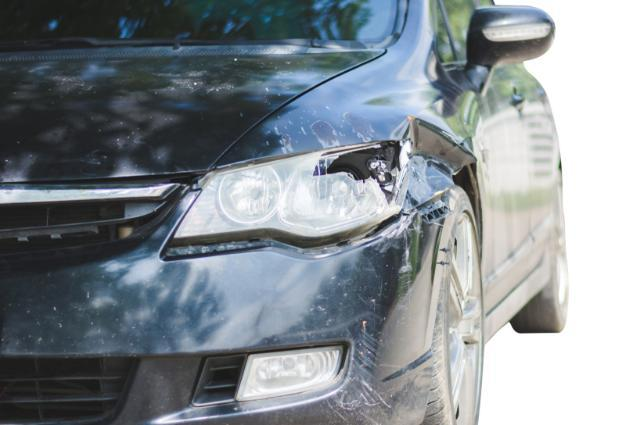Bumper: (315, 226, 431, 425)
Fender: (371, 85, 495, 191)
Light: (304, 144, 400, 217)
